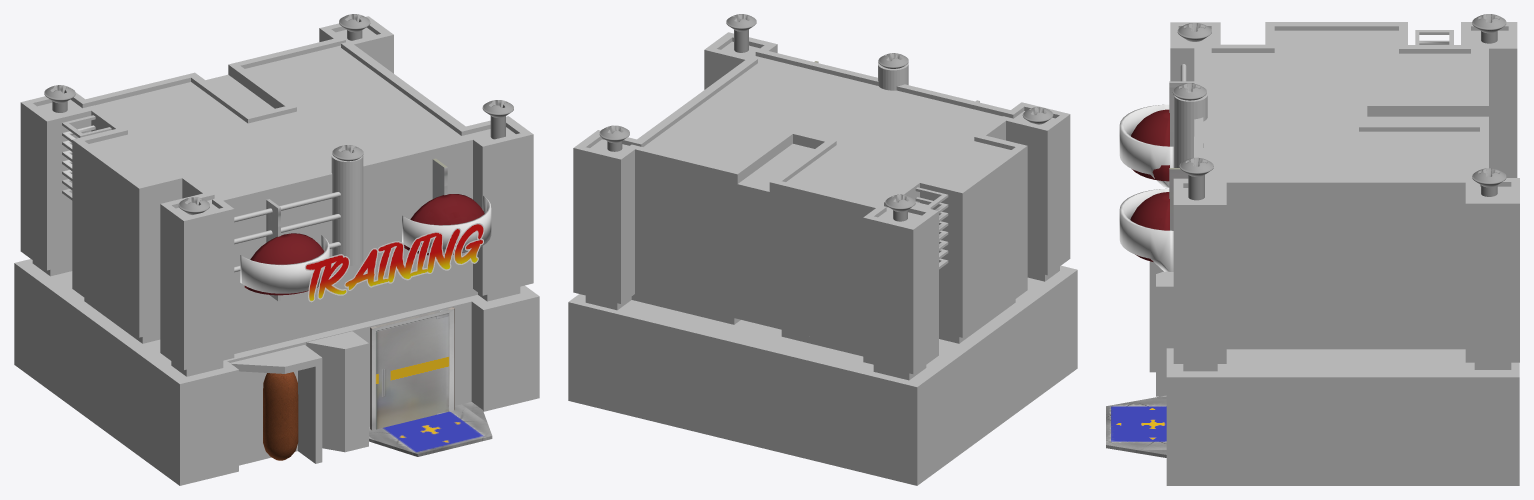
File: LeomonGym.fbx
3 renders of one model, left to right at view 1: azimuth 30°, elevation 25°; view 2: azimuth 150°, elevation 25°; view 3: azimuth 270°, elevation 25°, orthographic. The views are drawn at different scales.
Parts seen in each view (by area): view 1: Paredes; view 2: Paredes; view 3: Paredes.
Boxes of the visible parts, x1,y1,x2,y2 form: Paredes: (14,14,539,485); Paredes: (568,14,1077,485); Paredes: (1106,14,1519,485).
Size of the model in its own units: 0.2356 by 0.1847 by 0.2199.
